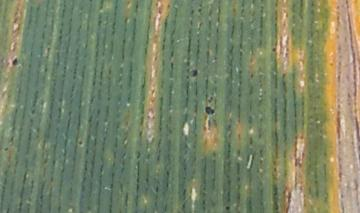tarspot: (203, 101, 218, 123), (187, 64, 202, 83), (8, 54, 22, 70), (221, 202, 237, 213), (267, 44, 281, 56), (1, 144, 12, 157), (76, 137, 86, 149)
